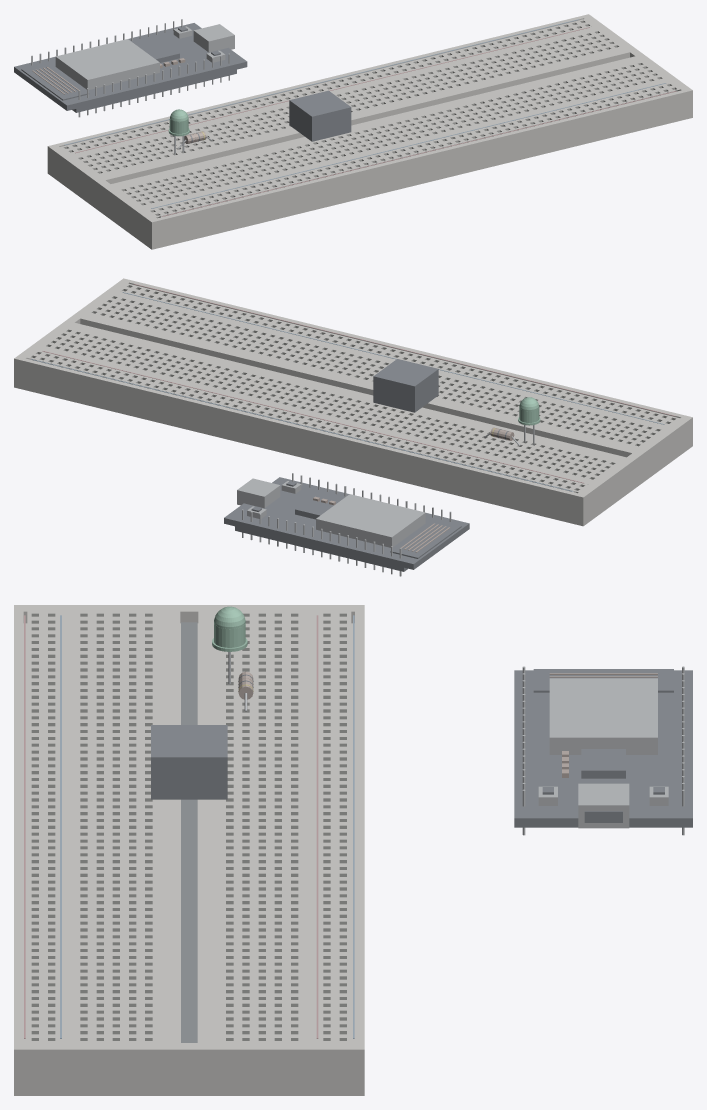
The model's file is step-4.glb.
3 views of the same model, one above another, from view 1: azimuth 30°, elevation 25°; view 2: azimuth 150°, elevation 25°; view 3: azimuth 270°, elevation 25° (orthographic). The views are drawn at different scales.
Visible parts, largest first — view 1: breadboard__mesh, uno__mesh, button__mesh, green_led__mesh; view 2: breadboard__mesh, uno__mesh, button__mesh, green_led__mesh; view 3: breadboard__mesh, uno__mesh, button__mesh, green_led__mesh.
Boxes of the visible parts, x1=… form: breadboard__mesh: x1=47, y1=14, x2=692, y2=249; uno__mesh: x1=14, y1=19, x2=247, y2=117; button__mesh: x1=289, y1=90, x2=351, y2=141; green_led__mesh: x1=168, y1=109, x2=189, y2=154; breadboard__mesh: x1=14, y1=278, x2=692, y2=526; uno__mesh: x1=224, y1=473, x2=469, y2=576; button__mesh: x1=373, y1=359, x2=438, y2=412; green_led__mesh: x1=518, y1=397, x2=540, y2=444; breadboard__mesh: x1=14, y1=605, x2=364, y2=1095; uno__mesh: x1=514, y1=666, x2=692, y2=835; button__mesh: x1=151, y1=725, x2=227, y2=799; green_led__mesh: x1=212, y1=606, x2=247, y2=684.
Size of the model in its own units: 0.165 by 0.0205 by 0.1065.
